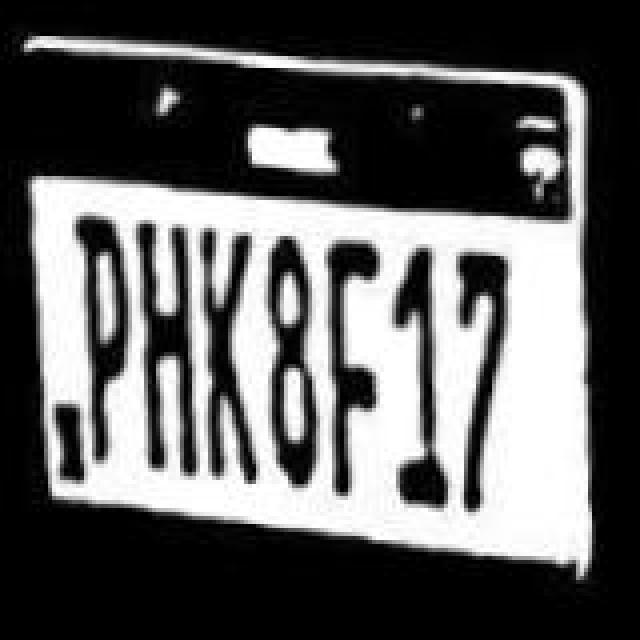1: (374, 218, 458, 518)
7: (442, 242, 510, 518)
8: (258, 216, 326, 512)
F: (314, 234, 390, 506)
H: (126, 204, 206, 484)
K: (188, 208, 268, 492)
P: (60, 206, 136, 486)
